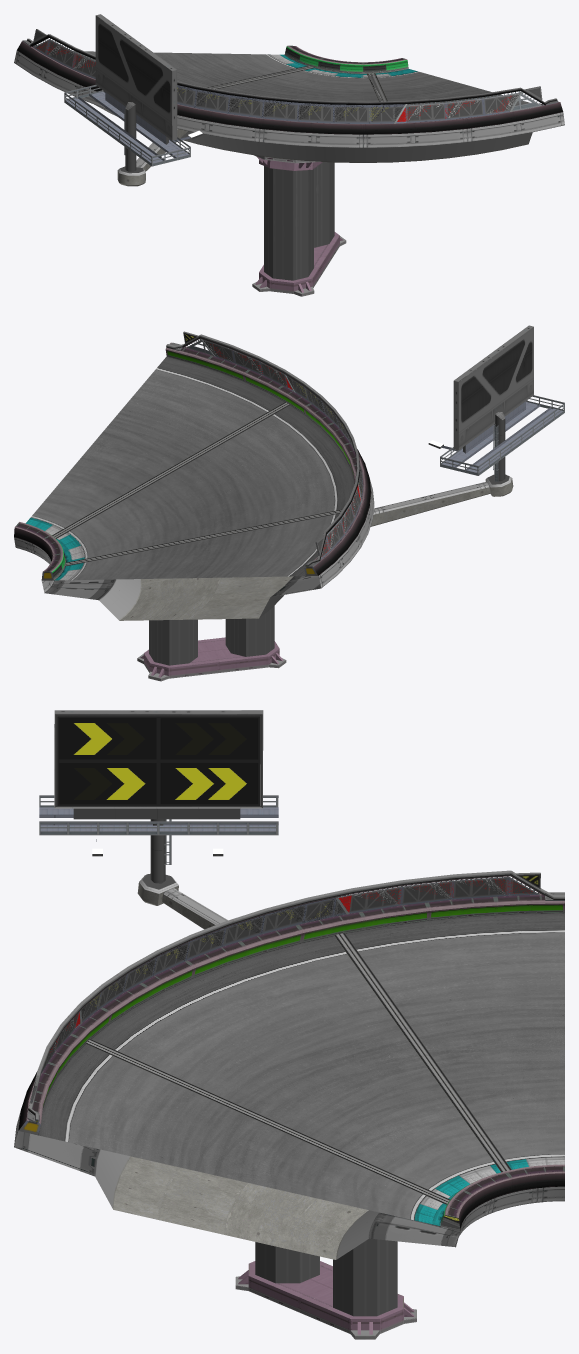
The picture shows the model from 3 angles, top to bottom: view 1: azimuth 30°, elevation 25°; view 2: azimuth 150°, elevation 25°; view 3: azimuth 270°, elevation 25°; orthographic projection. The views are drawn at different scales.
Parts seen in each view (by area): view 1: standard_bridge, prop_billboard_right, standard_arrow_right, standard_road, support_pylon, trenchwalls2, support_ground, tower_attachment, support_standard, banking_middle_lines; view 2: standard_road, standard_bridge, prop_billboard_right, trenchwalls2, standard_arrow_right, support_pylon, support_ground, banking_middle_lines, tower_attachment; view 3: standard_road, prop_billboard_right, standard_bridge, trenchwalls2, standard_arrow_right, support_pylon, banking_middle_lines, support_ground, tower_attachment.
Boxes of the visible parts, x1,y1,x2,y2 form: standard_bridge: (14, 50, 564, 162); prop_billboard_right: (64, 14, 203, 171); standard_arrow_right: (22, 29, 557, 123); standard_road: (73, 51, 529, 105); support_pylon: (264, 162, 334, 280); trenchwalls2: (17, 41, 563, 134); support_ground: (252, 232, 346, 296); tower_attachment: (117, 129, 187, 186); support_standard: (253, 155, 322, 170); banking_middle_lines: (207, 68, 387, 101); standard_road: (25, 356, 354, 580); standard_bridge: (14, 478, 374, 620); prop_billboard_right: (428, 325, 564, 482); trenchwalls2: (14, 342, 371, 580); standard_arrow_right: (166, 331, 363, 567); support_pylon: (149, 606, 274, 665); support_ground: (137, 637, 286, 681); banking_middle_lines: (65, 412, 333, 561); tower_attachment: (370, 474, 513, 526); standard_road: (38, 912, 564, 1226); prop_billboard_right: (39, 710, 278, 883); standard_bridge: (14, 1111, 564, 1259); trenchwalls2: (18, 893, 564, 1230); standard_arrow_right: (27, 870, 564, 1122); support_pylon: (255, 1238, 397, 1316); banking_middle_lines: (113, 951, 503, 1193); support_ground: (235, 1261, 416, 1339); tower_attachment: (137, 873, 227, 929).
Bounding box in the file's own units: 6262 × 4771 × 5417.
